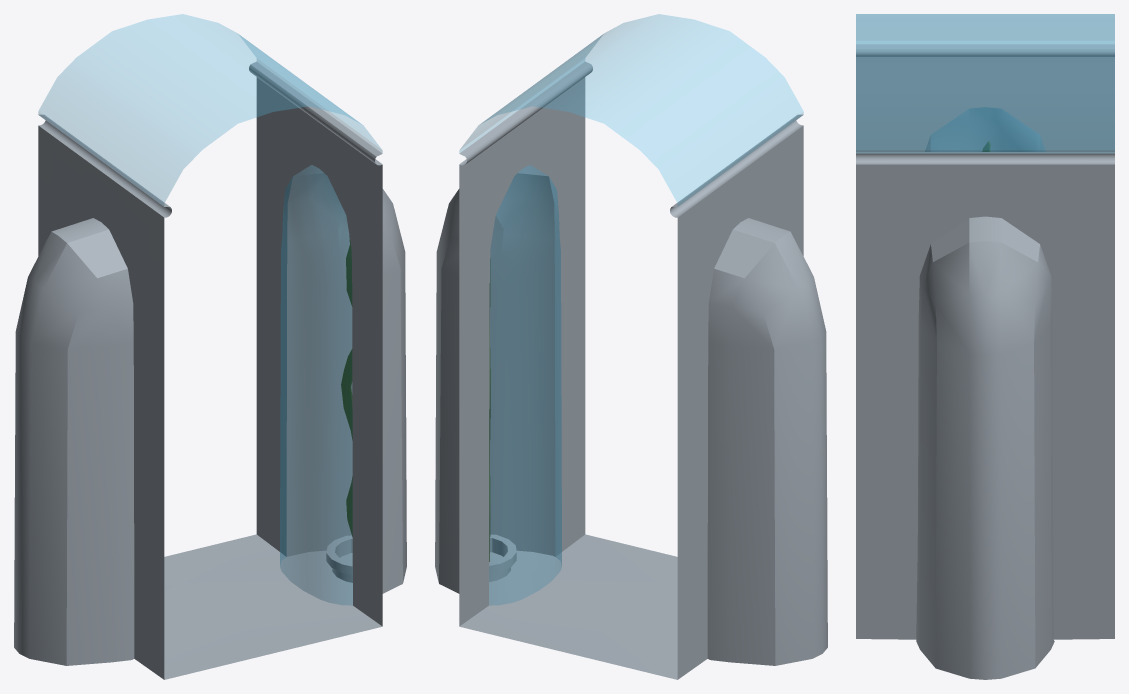
File: Straight1.fbx
3 renders of one model, left to right at view 1: azimuth 30°, elevation 25°; view 2: azimuth 150°, elevation 25°; view 3: azimuth 270°, elevation 25°, orthographic. The views are drawn at different scales.
Visible parts, largest first — view 1: Straight.001; view 2: Straight.001; view 3: Straight.001.
Part boxes in pixels (x1=…): Straight.001: x1=14, y1=14, x2=406, y2=679; Straight.001: x1=435, y1=14, x2=827, y2=679; Straight.001: x1=856, y1=14, x2=1114, y2=679.
Bounding box in the file's own units: 210 × 285 × 120.
